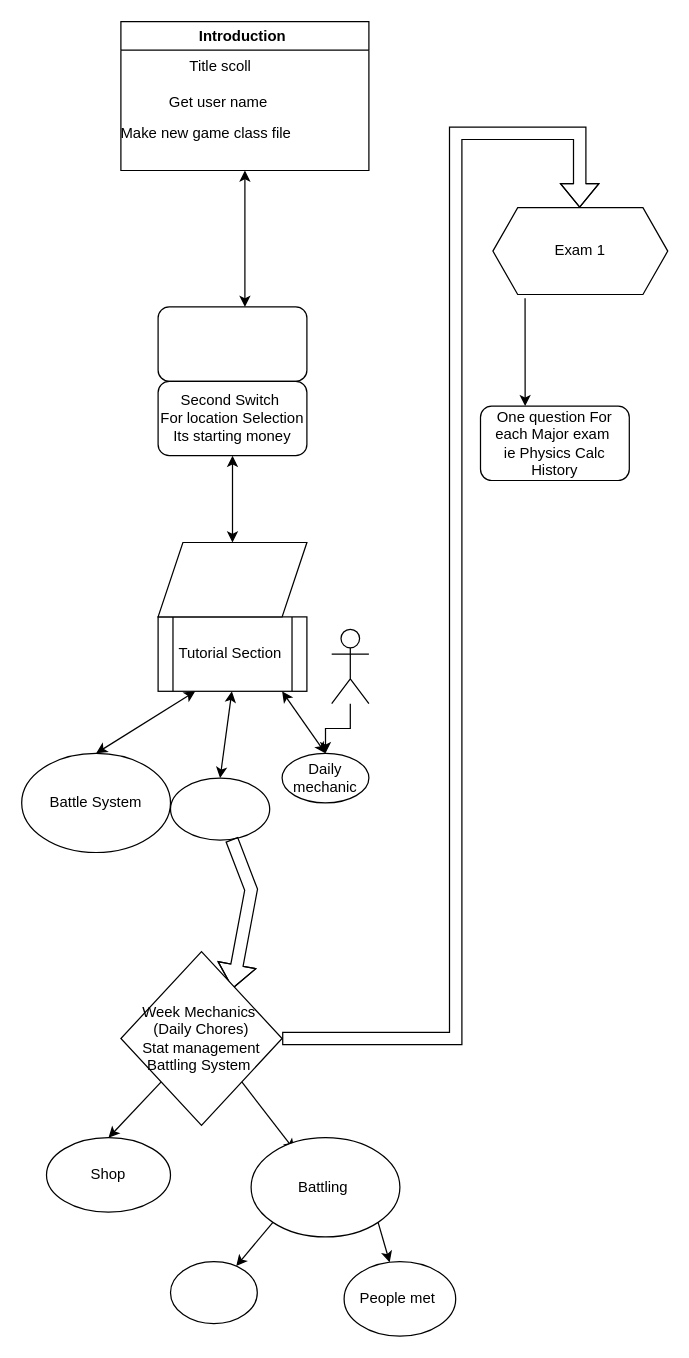
Image size: 689x1358. Some labels were removed from this diagram. Each missing label, with the centre of its shape:
Instrutor: [349,666]
Shop Tutoriall: [219,808]
StatChanges: [213,1292]
Switch Statement Class Selection And Stats Definition: [232,343]
Want Tutorial Conditional: [232,579]
